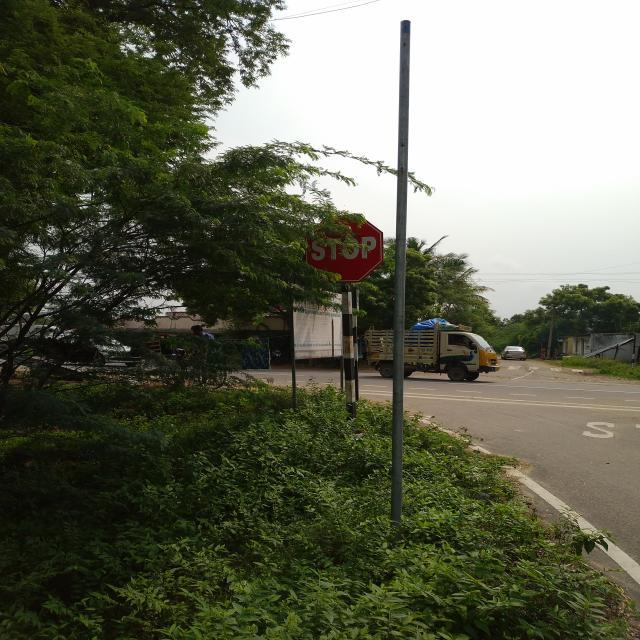stop: (295, 207, 396, 290)
